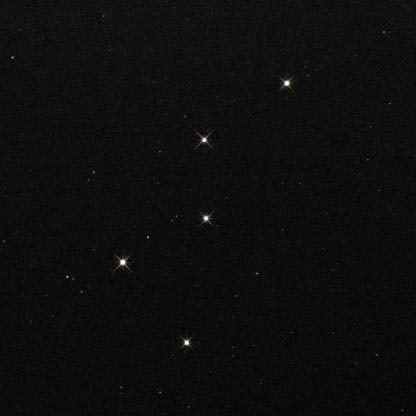Cassiopeia: (106, 227, 155, 281), (187, 128, 220, 157), (192, 198, 222, 229), (171, 328, 201, 357), (276, 67, 300, 102)
